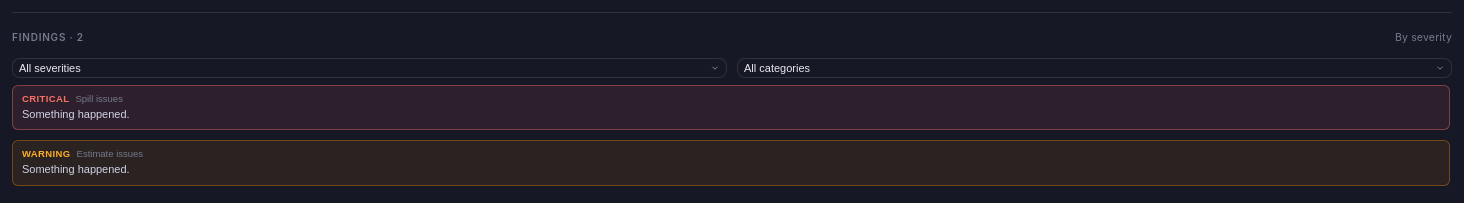
Test: FindingsList › filters by severity
Expected: the number of buttons with test id "finding-item" is 2, 12,85 -> 1450,130; 12,140 -> 1450,186
Select "Critical" in the dropdown with test id "findings-severity-filter" at (370, 68), box 12,58 -> 727,78
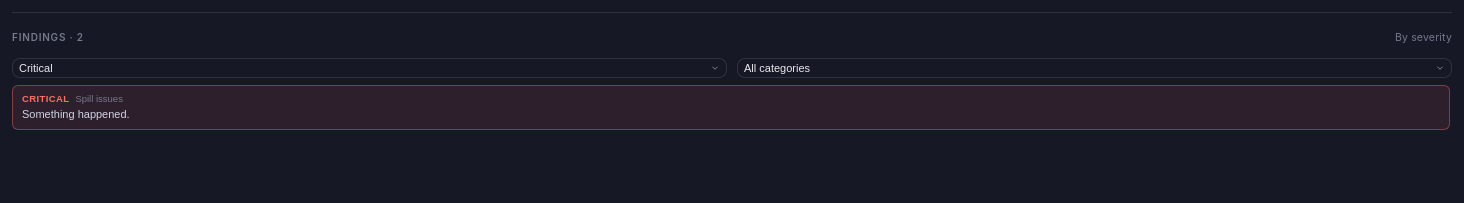
Expected: the button with test id "finding-item" shows "Critical", 12,85 -> 1450,130
Result: the number of buttons with test id "finding-item" is 1 at 12,85 -> 1450,130
